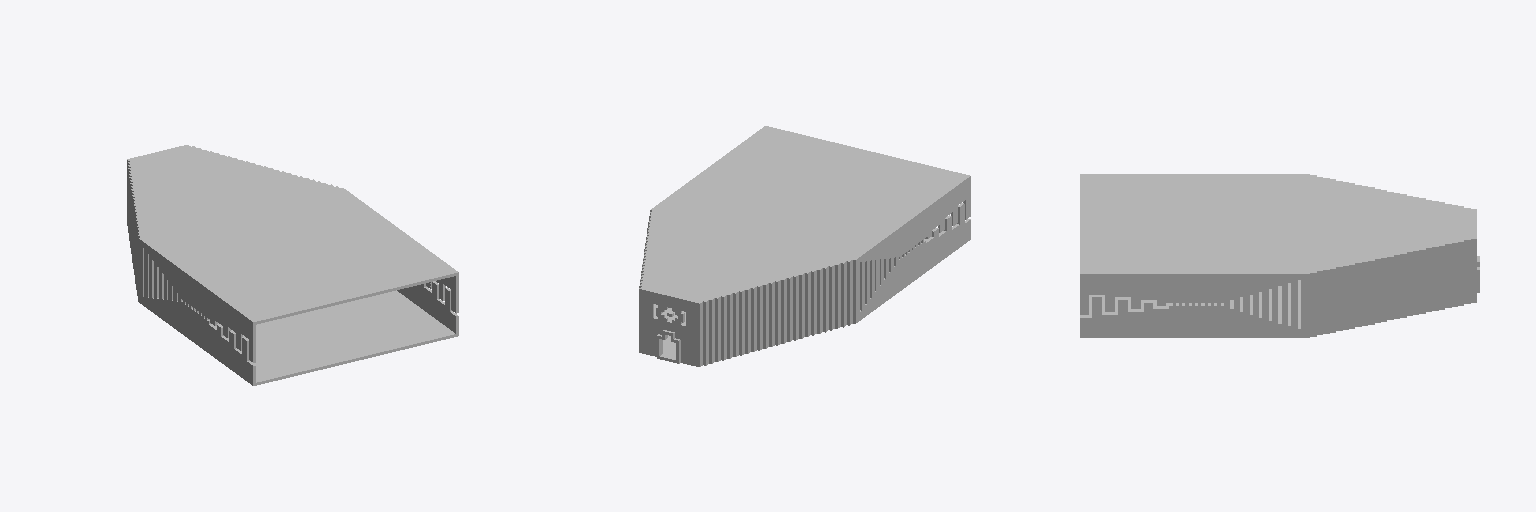
Rendered from 04_cave_01_2X.obj.
3 renders of one model, left to right at view 1: azimuth 30°, elevation 25°; view 2: azimuth 150°, elevation 25°; view 3: azimuth 270°, elevation 25°, orthographic.
Bounding box in the file's own units: 74 × 22 × 125.